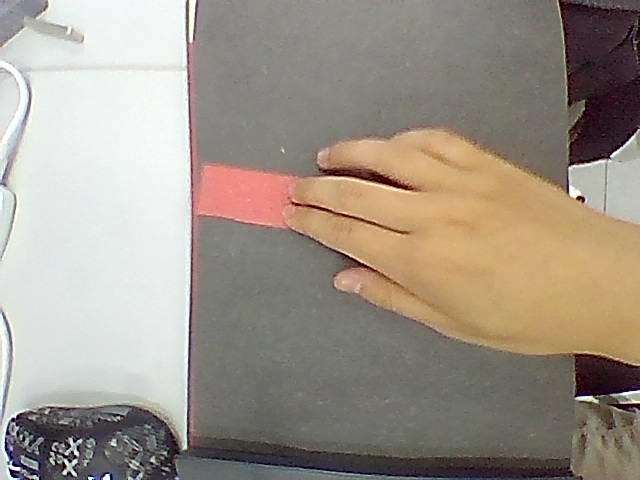card: (194, 164, 296, 227)
